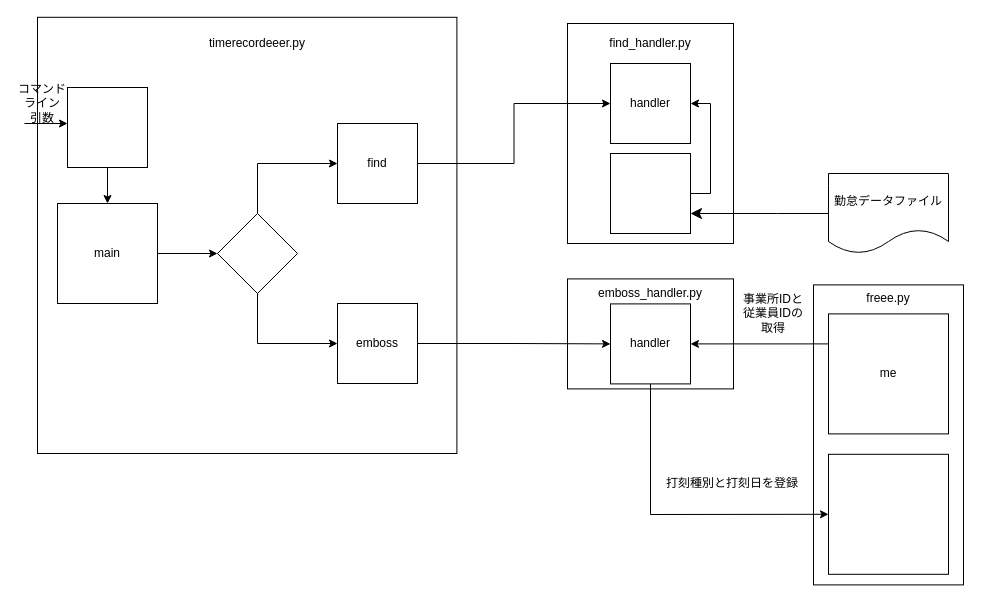
Some shapes in this 981 by 603 pixel diagram are drawn without their labels. Each missing label, with the centre of its shape:
"argparser" goes at [107,127].
"load" goes at [650,193].
"register_time_clock" goes at [888,513].
